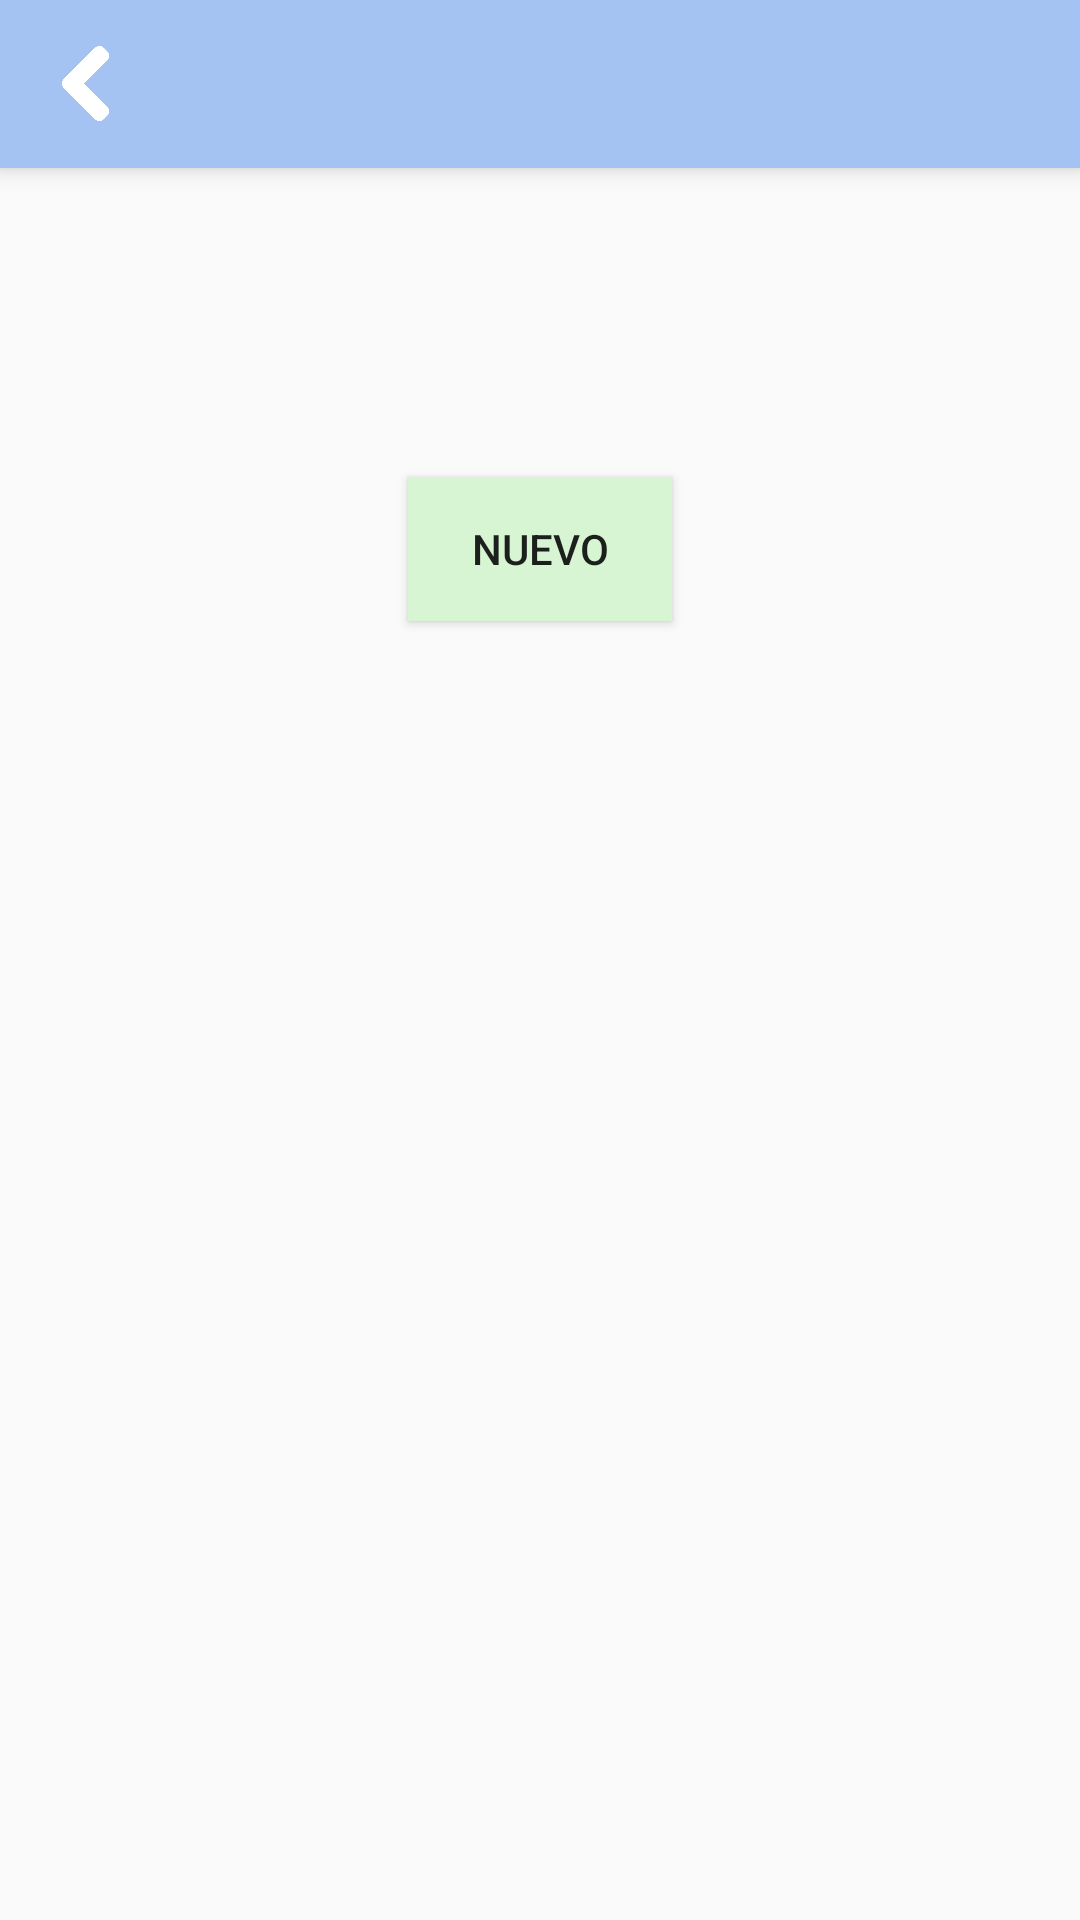

Icon click points for this 1080px x 1920px phone screenshot, format (x=x, y=y):
back: (x=85, y=83)
